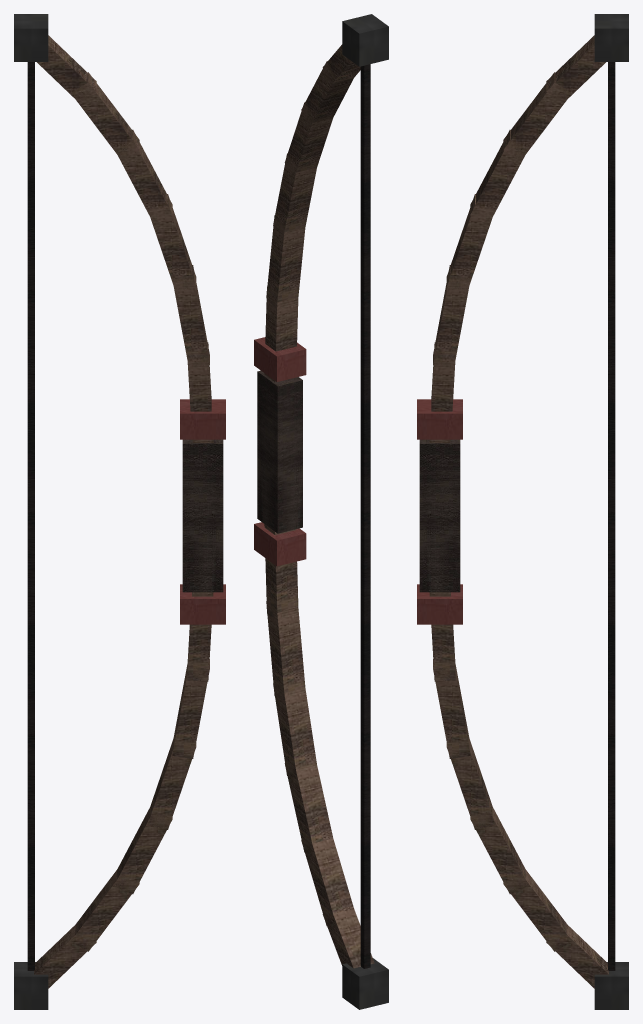
Rendered from wpn_bow_starter.glb.
3 renders of one model, left to right at view 1: azimuth 90°, elevation 25°; view 2: azimuth 210°, elevation 25°; view 3: azimuth 270°, elevation 25°, orthographic.
Parts seen in each view (by area): view 1: wpn_bow_starter; view 2: wpn_bow_starter; view 3: wpn_bow_starter.
Part boxes in pixels (box(x1,y1,x2,y2)): wpn_bow_starter: box(14, 14, 225, 1009); wpn_bow_starter: box(254, 14, 388, 1009); wpn_bow_starter: box(417, 14, 628, 1009).
Size of the model in its own units: 0.042 by 1.32 by 0.259.
5 materials, 5 textured.
